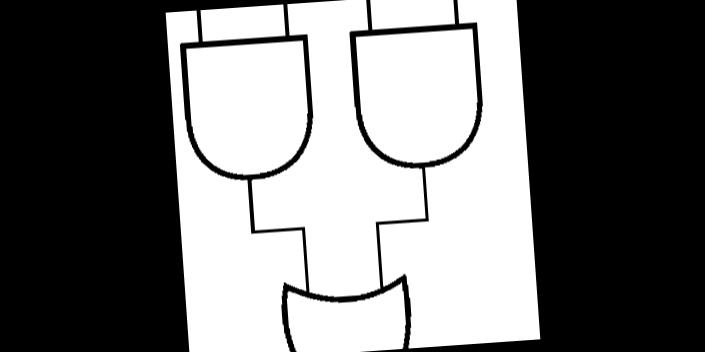and: (336, 4, 499, 184), (170, 18, 326, 191)
nor: (267, 260, 425, 352)
